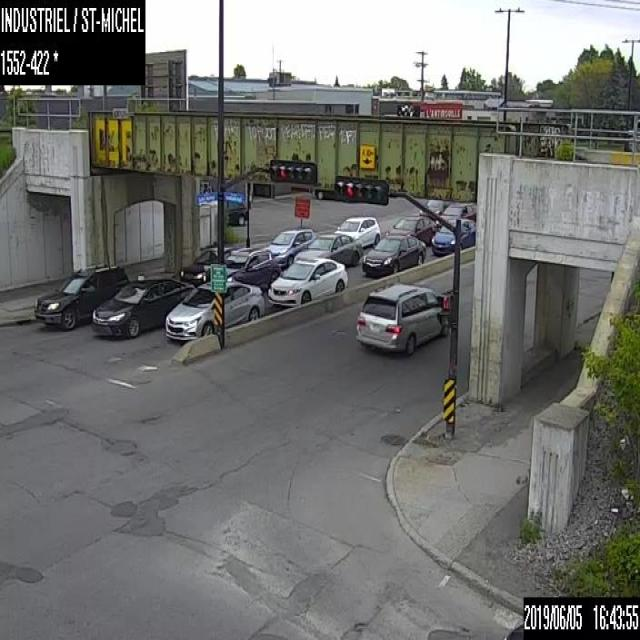construction: (293, 195, 309, 228)
vehicle: (355, 282, 449, 354), (92, 277, 194, 338), (33, 263, 130, 326), (164, 280, 264, 340), (266, 258, 348, 306), (362, 232, 425, 274), (222, 246, 281, 290), (293, 232, 361, 266), (179, 245, 236, 285), (265, 228, 316, 264), (432, 217, 475, 254), (385, 213, 434, 245), (333, 214, 380, 247), (439, 200, 476, 220), (224, 199, 247, 224), (419, 197, 450, 215)
